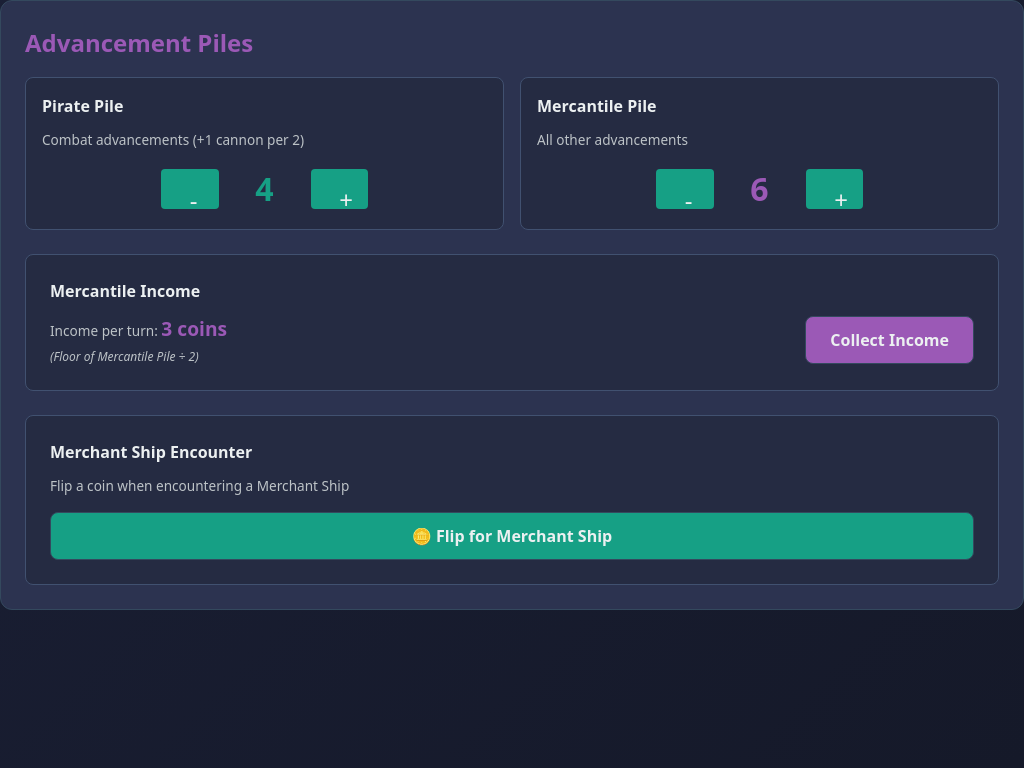
it: AdvancementPiles › Merchant Ship Flip › hides flip button when result is shown
Click the button "🪙 Flip for Merchant Ship": {"x": 512, "y": 536} [50,512,974,560]
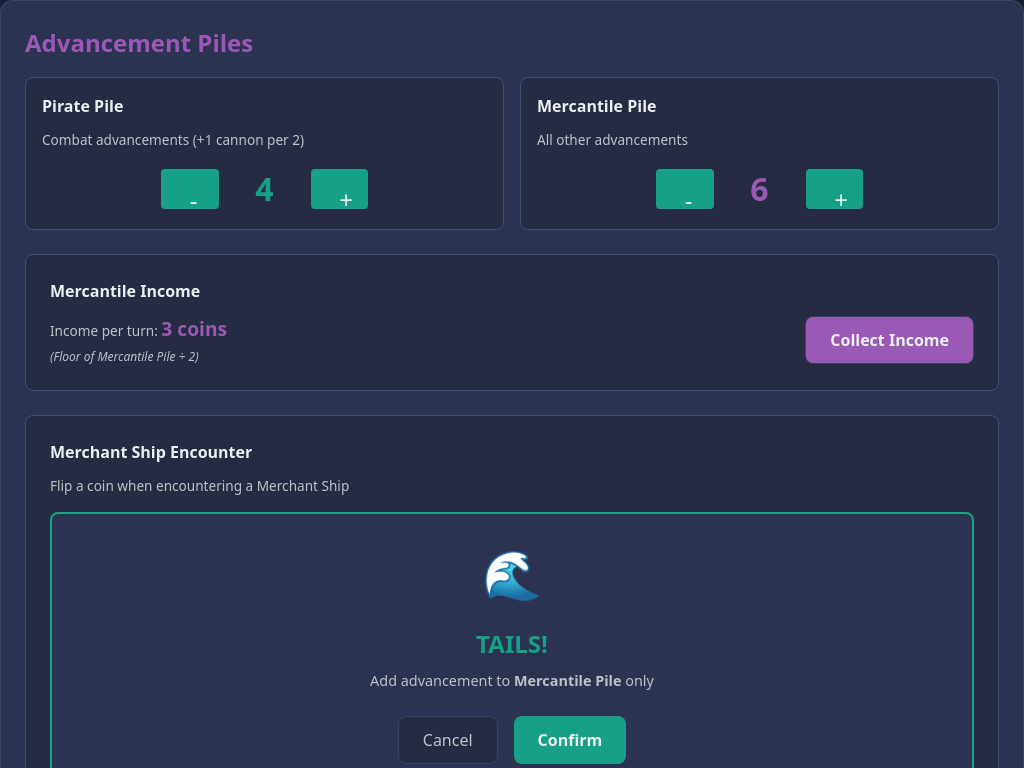
Check: the button "Flip for Merchant Ship" is gone
